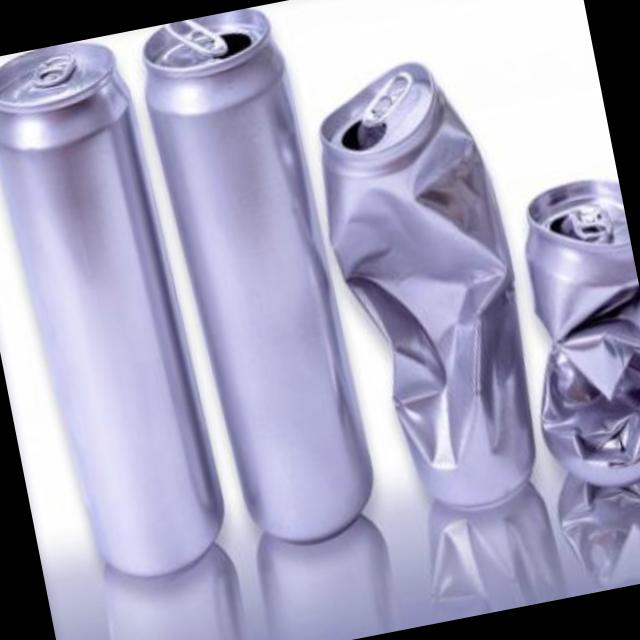metal: (142, 8, 369, 539), (0, 42, 219, 574), (318, 62, 531, 505), (524, 179, 640, 484)
